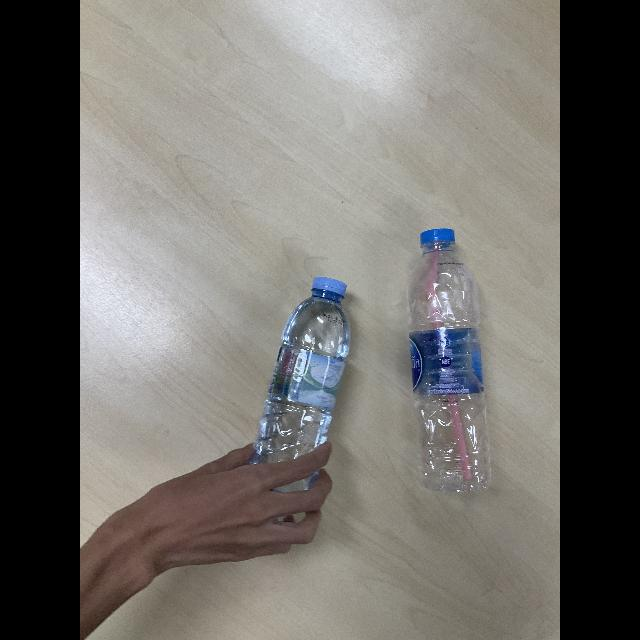plastic_bottle: (404, 226, 498, 496), (258, 274, 350, 528)
plastic_bottle_cap: (311, 276, 349, 304), (418, 228, 458, 252)
